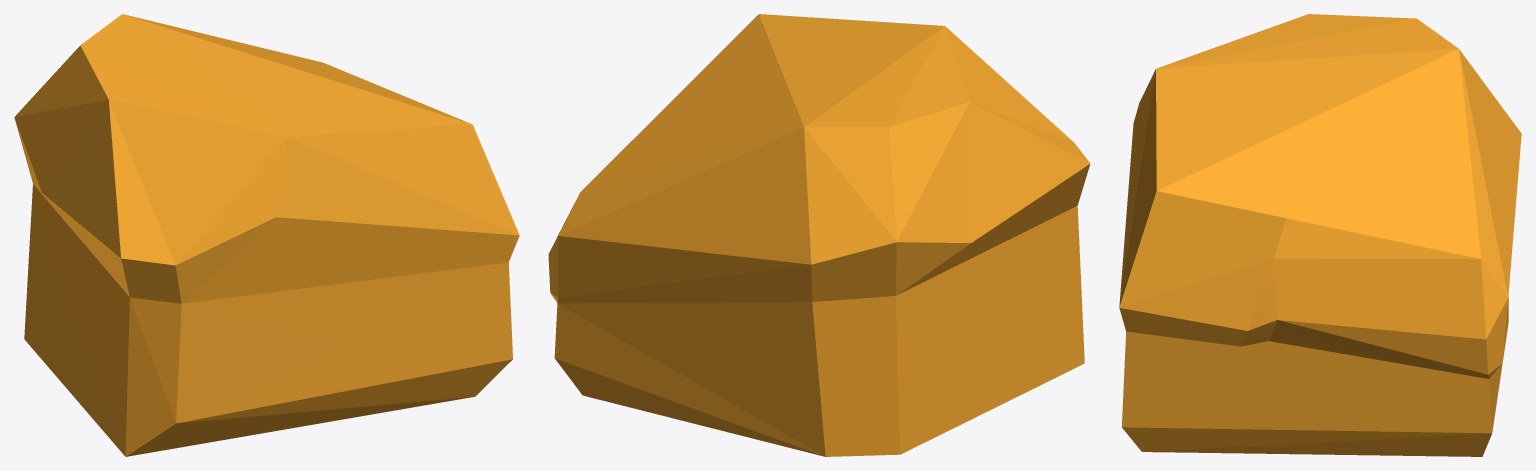
File: SM_Stone_A_Snow.fbx
The picture shows the model from 3 angles, left to right: view 1: azimuth 30°, elevation 25°; view 2: azimuth 150°, elevation 25°; view 3: azimuth 270°, elevation 25°; orthographic projection.
Parts seen in each view (by area): view 1: stone-a-snow; view 2: stone-a-snow; view 3: stone-a-snow.
Part boxes in pixels (bbox=[...]): stone-a-snow: bbox=[14, 14, 519, 456]; stone-a-snow: bbox=[548, 14, 1090, 456]; stone-a-snow: bbox=[1119, 14, 1521, 456].
Bounding box in the file's own units: 0.2064 × 0.1603 × 0.1888.
